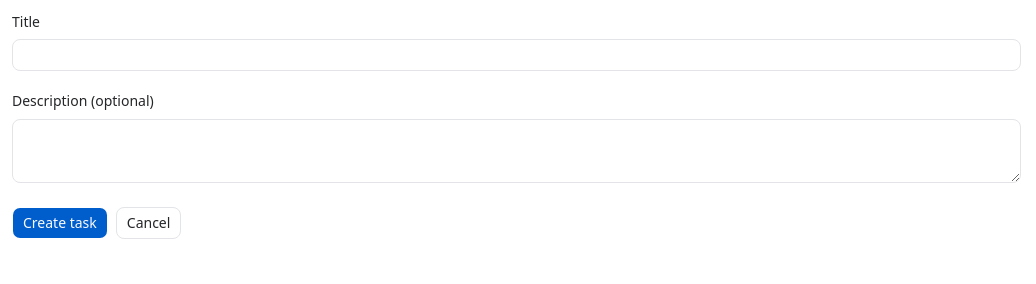
Test: TaskForm › clears the message as soon as the title becomes valid
Click the button "Create task": (60, 222) [12, 206, 108, 238]
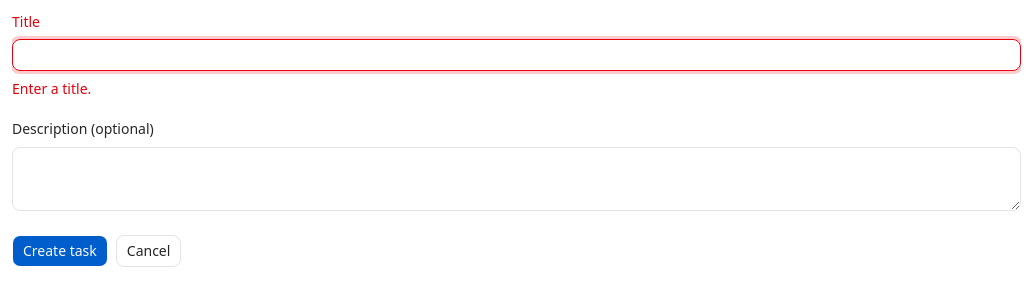
expect the text "Enter a title." is shown: met, box [12, 79, 91, 98]
In the field labelled "Title": (516, 55) [12, 39, 1021, 71], type "D"
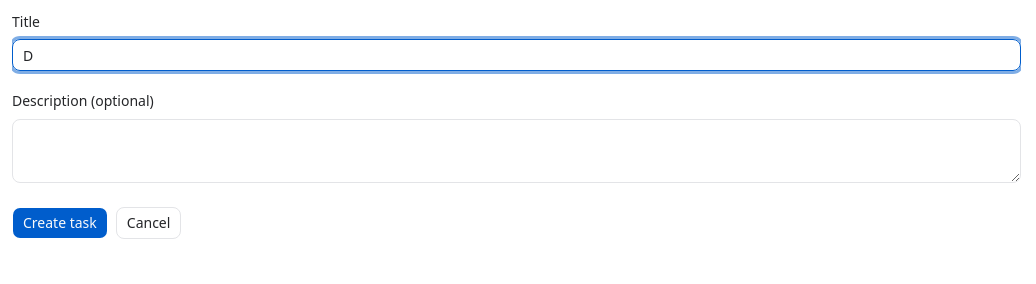
expect the text "Enter a title." is gone: met
